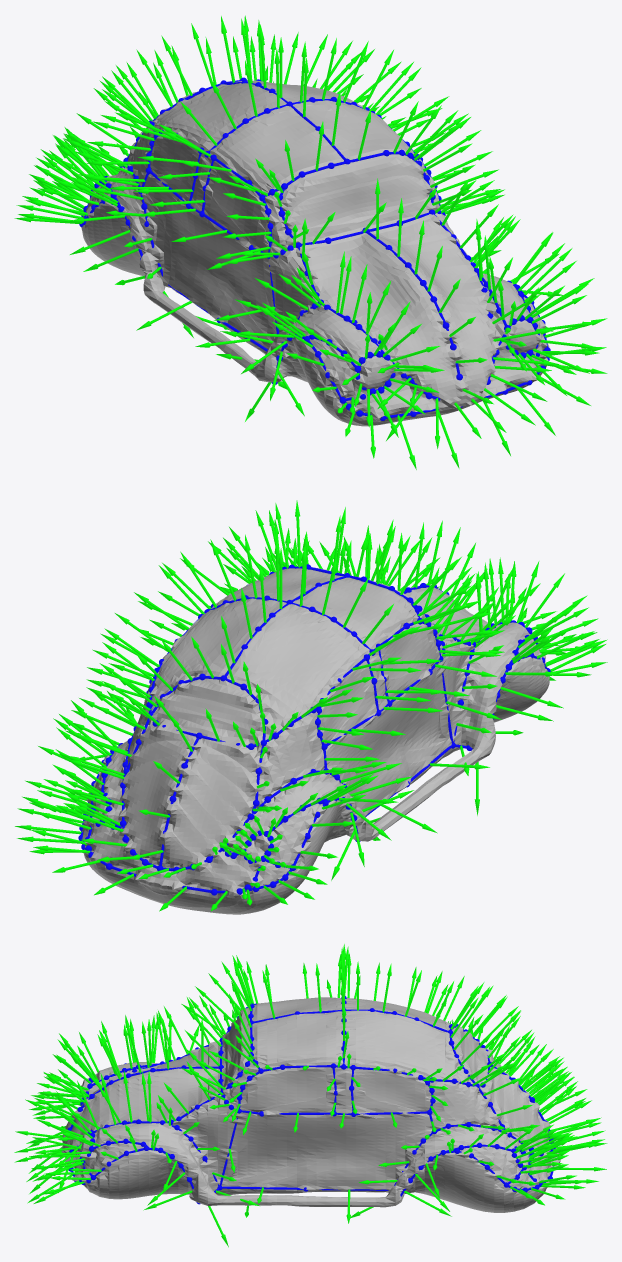
The model's file is flowsurf_beetle.gltf.
3 views of the same model, one above another, from view 1: azimuth 30°, elevation 25°; view 2: azimuth 150°, elevation 25°; view 3: azimuth 270°, elevation 25° (orthographic). The views are drawn at different scales.
Size of the model in its own units: 0.5559 by 0.4813 by 1.07.
